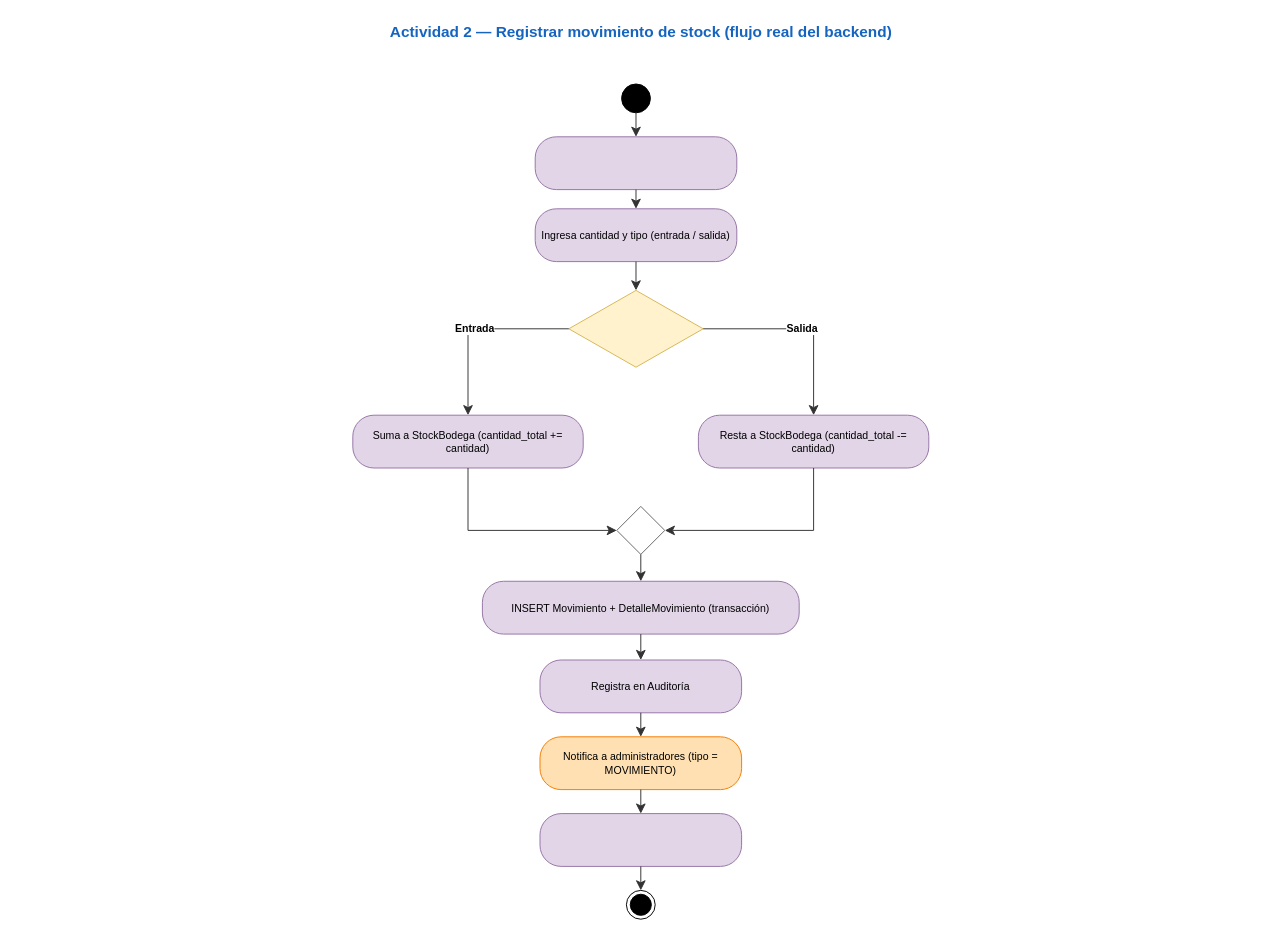
This 1281x936 diagram has some shape labels left out. Each missing label, with the centre of its shape:
"Muestra confirmación + actualiza vista" goes at [640,839].
"Usuario selecciona un producto (buscar o escanear código)" goes at [635,163].
"¿Tipo de movimiento?" goes at [635,328].
